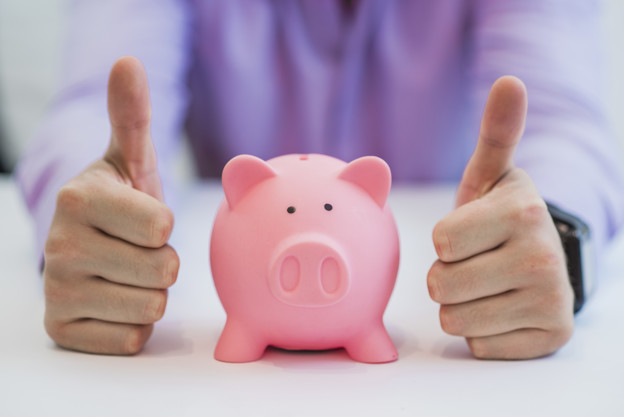thumbsup: (427, 75, 575, 362), (41, 55, 180, 355)
